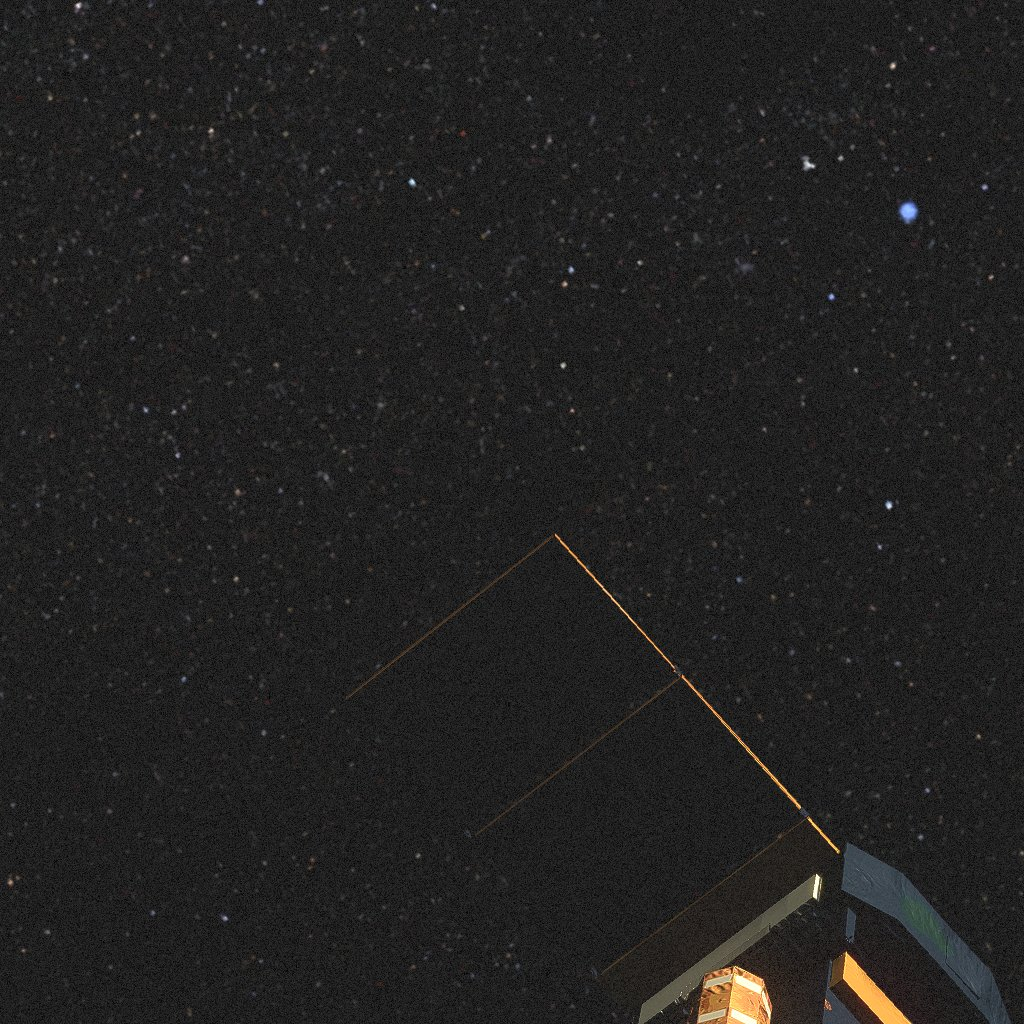soho: (346, 533, 1011, 1024)
